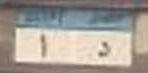1: (38, 32, 49, 59)
daal: (96, 40, 111, 59)
